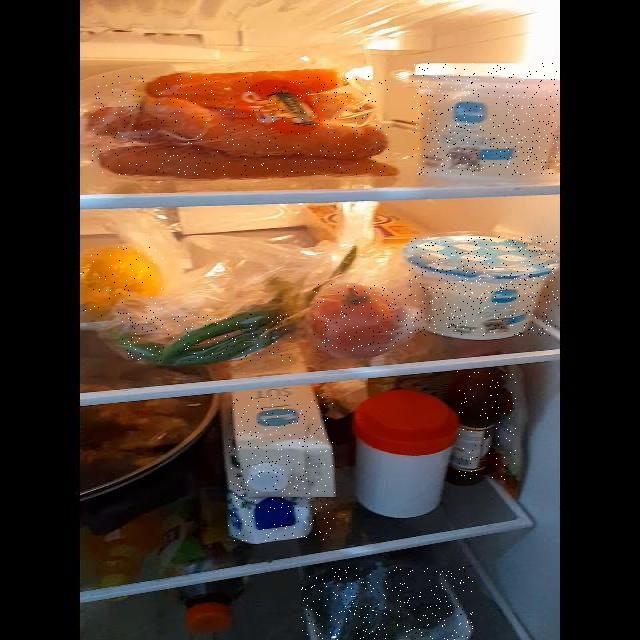broccoli: (302, 567, 474, 640)
carrot: (92, 76, 389, 176)
green chilies: (120, 313, 291, 361)
lemon: (80, 245, 163, 316)
milk: (228, 395, 335, 541)
sauce: (457, 371, 516, 481)
tomato: (314, 284, 409, 351)
yoghurt: (412, 63, 559, 175), (409, 236, 559, 336)
